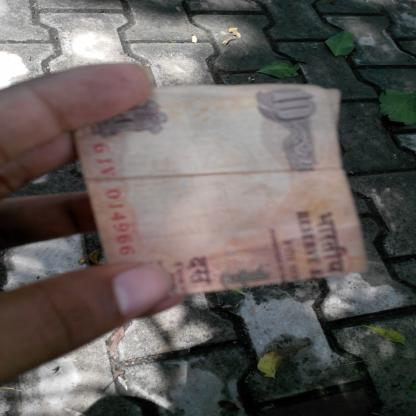Old10Front: (73, 84, 368, 295)
